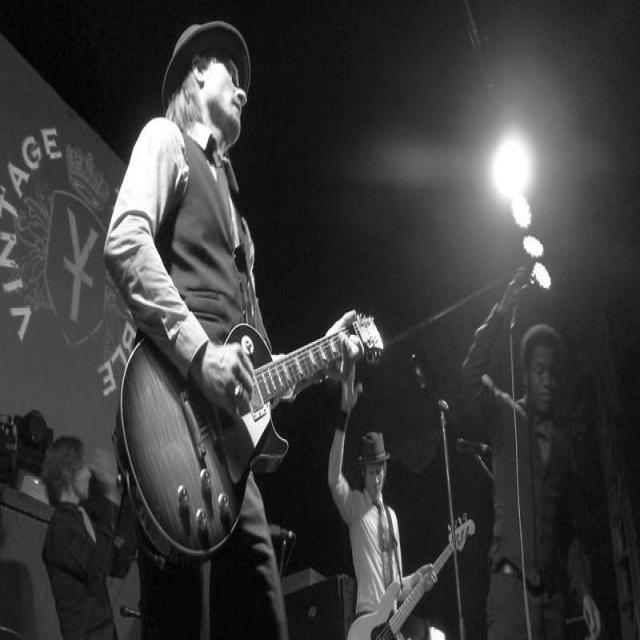bass: (348, 576, 427, 639)
guitar: (115, 324, 341, 563)
